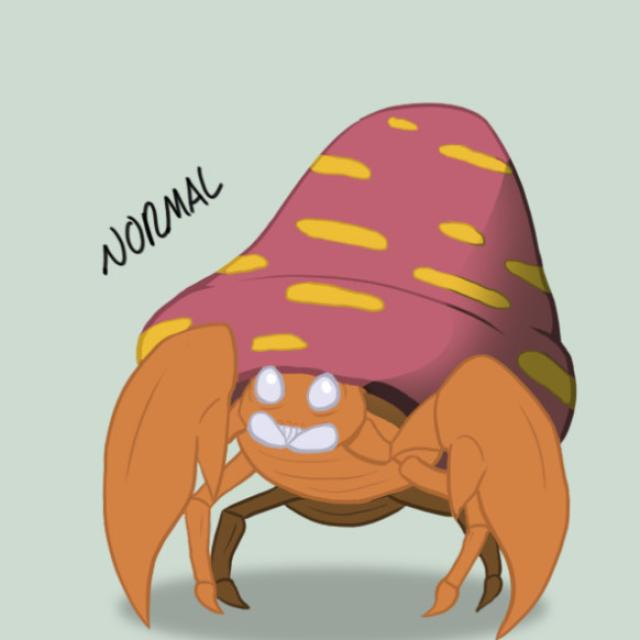Parasect: (92, 110, 556, 630)
